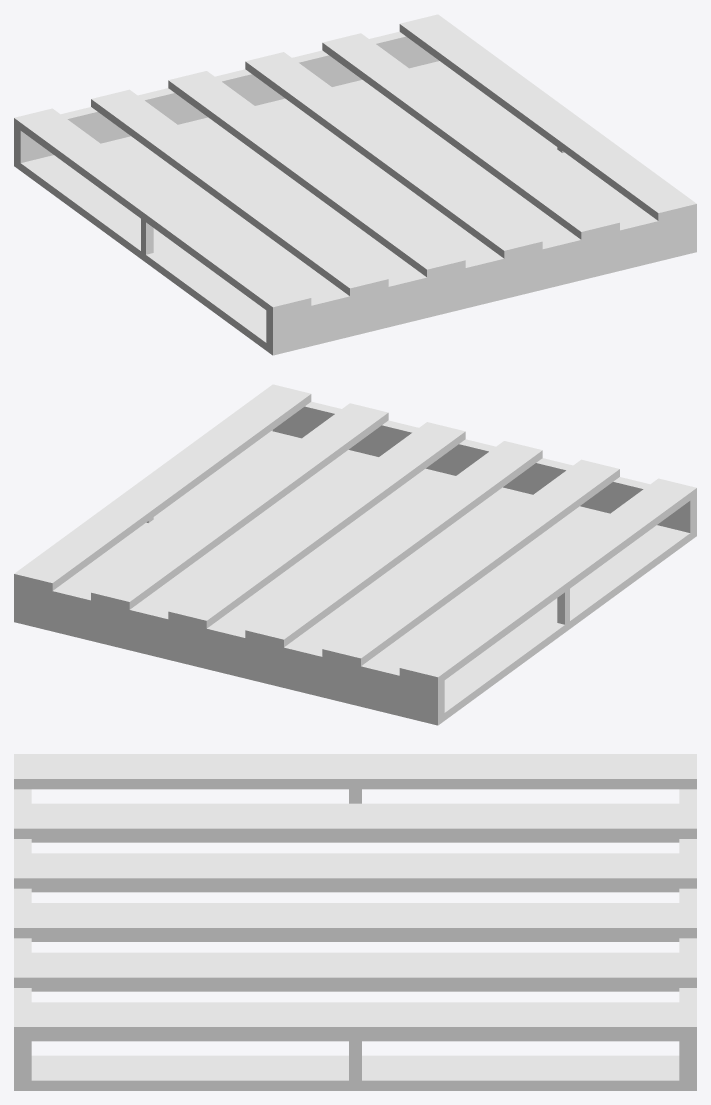
Rendered from Plank.fbx.
The picture shows the model from 3 angles, top to bottom: view 1: azimuth 30°, elevation 25°; view 2: azimuth 150°, elevation 25°; view 3: azimuth 270°, elevation 25°; orthographic projection. The views are drawn at different scales.
Parts seen in each view (by area): view 1: Cube.003; view 2: Cube.003; view 3: Cube.003.
Boxes of the visible parts, x1,y1,x2,y2 form: Cube.003: [14, 14, 696, 355]; Cube.003: [14, 384, 696, 725]; Cube.003: [14, 754, 696, 1090].
Bounding box in the file's own units: 200 × 21.77 × 211.
